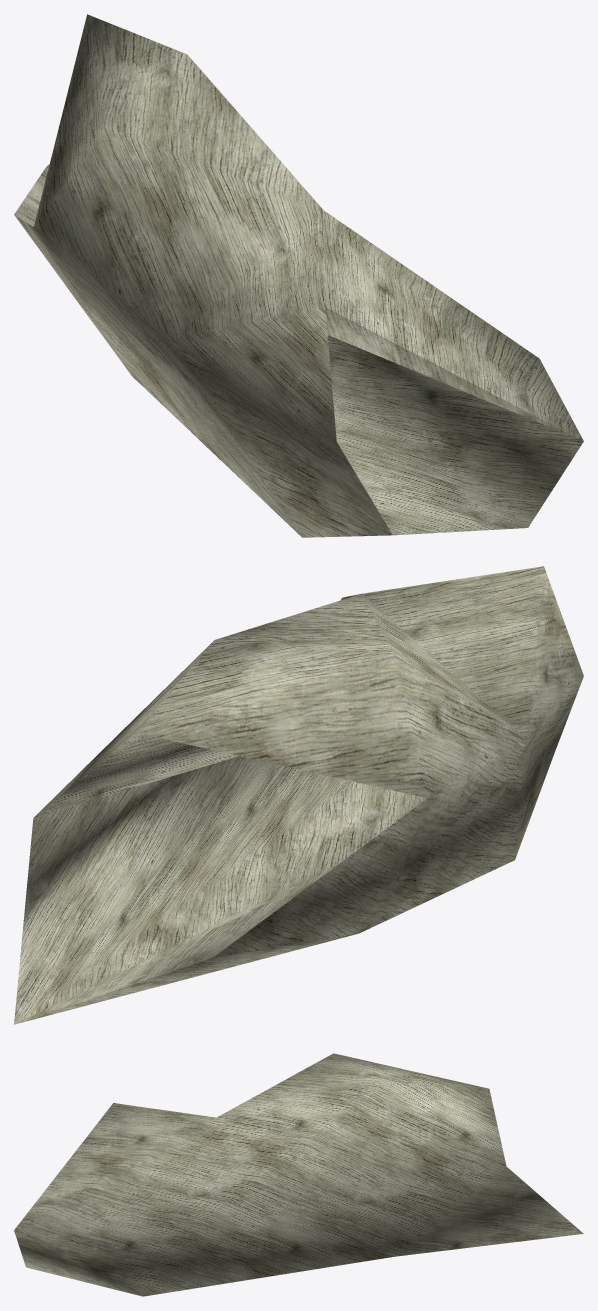
Rendered from shor_driftwood_massassi_hollow_l2.fbx.
3 views of the same model, one above another, from view 1: azimuth 30°, elevation 25°; view 2: azimuth 150°, elevation 25°; view 3: azimuth 270°, elevation 25° (orthographic). The views are drawn at different scales.
Visible parts, largest first — view 1: mesh_node; view 2: mesh_node; view 3: mesh_node.
Part boxes in pixels (<box>): mesh_node: <box>14,14,583,537</box>; mesh_node: <box>14,566,583,1024</box>; mesh_node: <box>14,1053,583,1296</box>.
Bounding box in the file's own units: 5.52 × 5.9 × 15.1.
